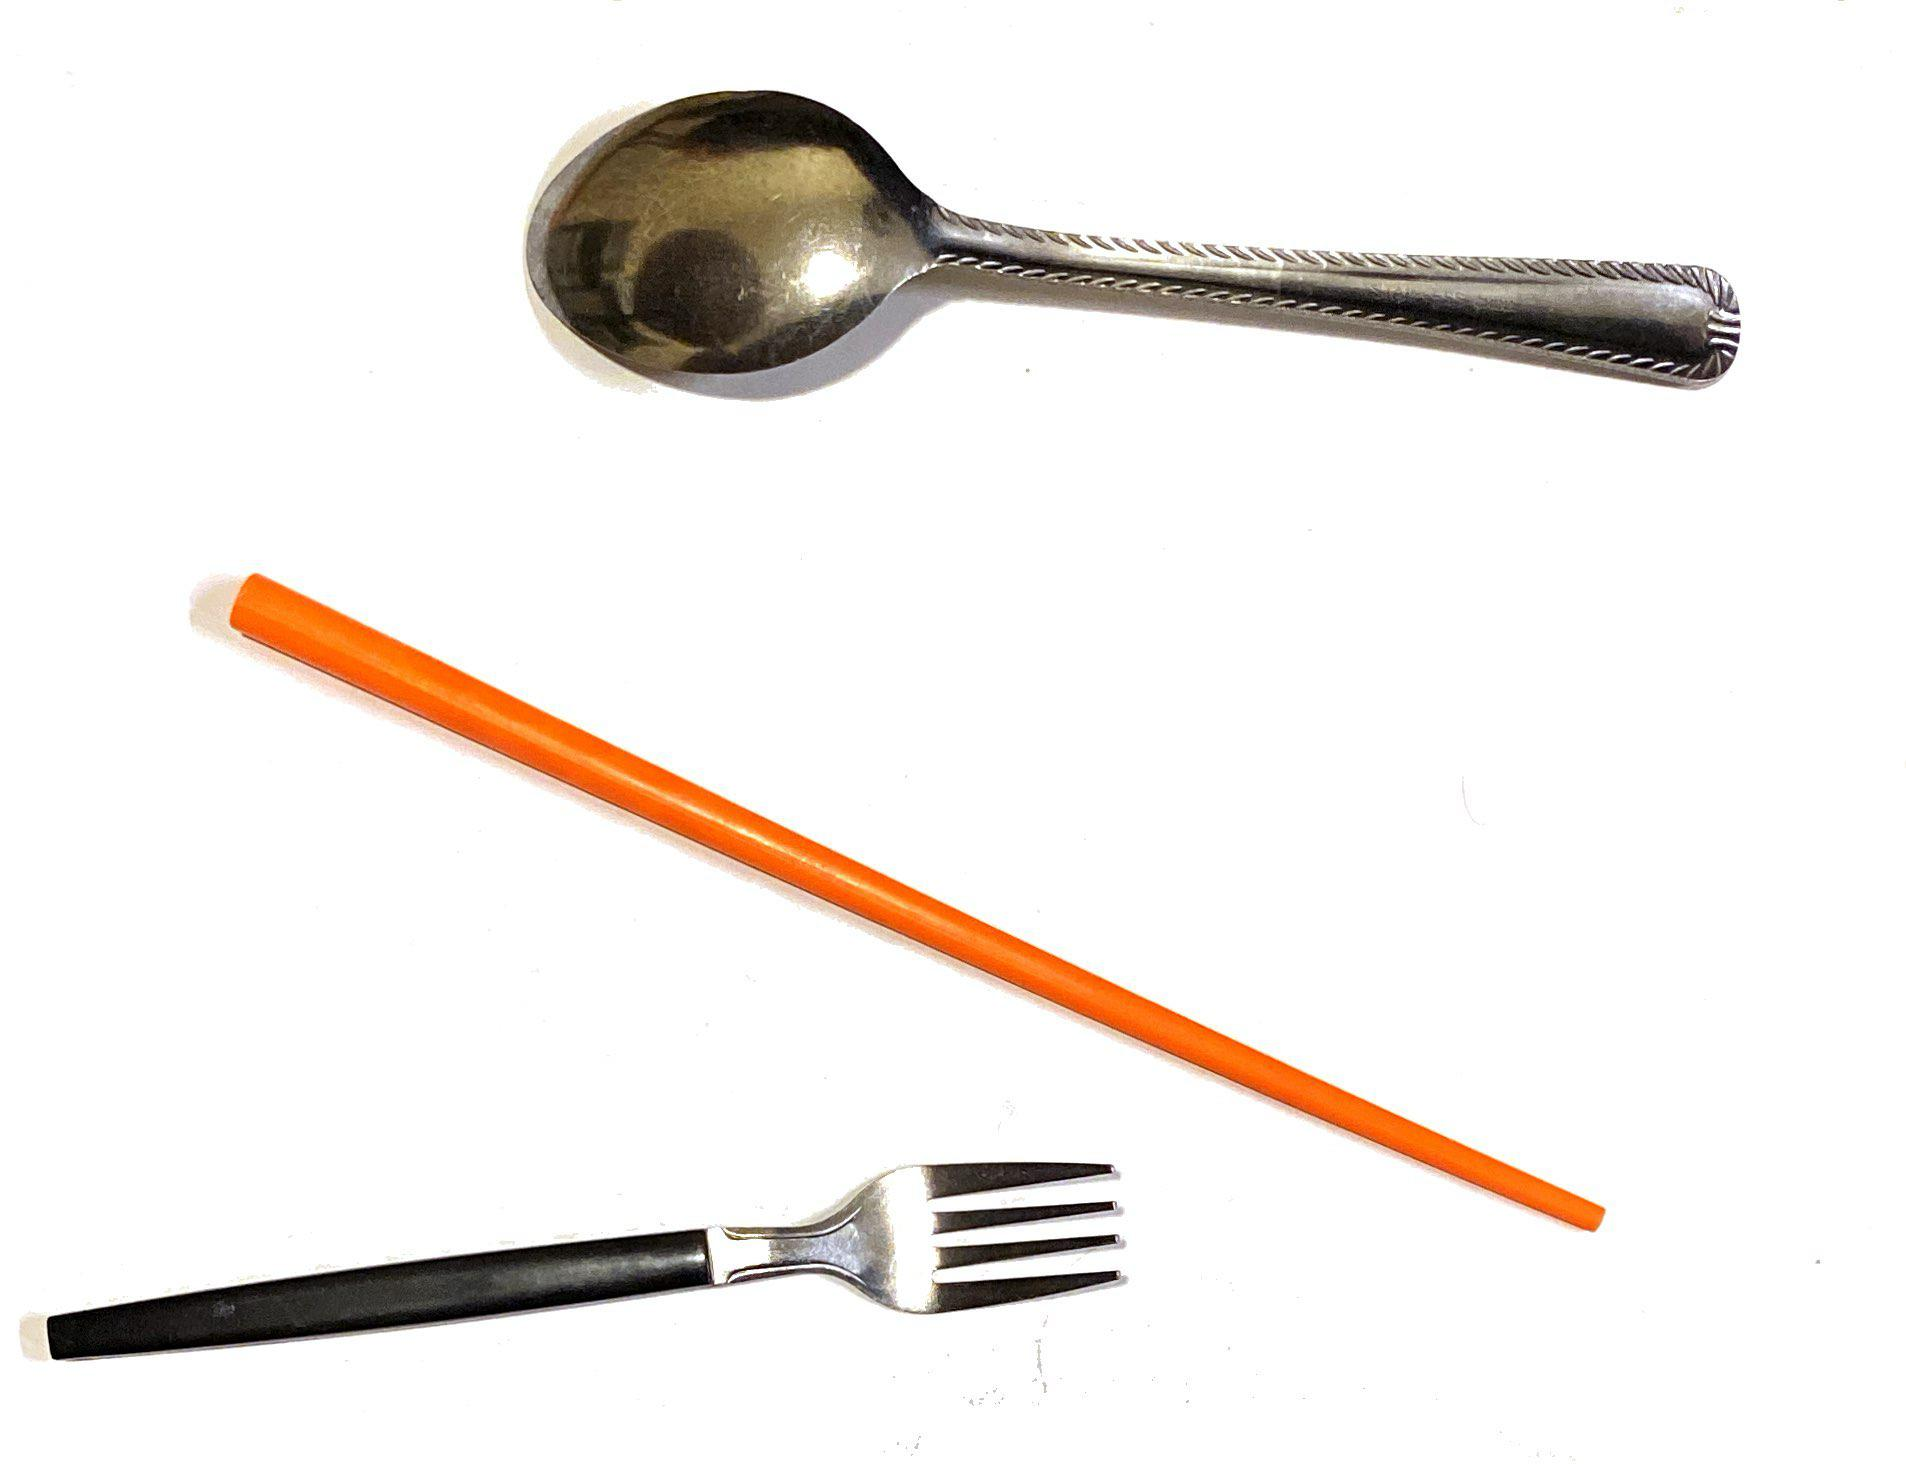Chopstick: (204, 491, 1698, 1244)
Fork: (11, 1113, 1161, 1446)
Spoon: (489, 63, 1825, 467)
